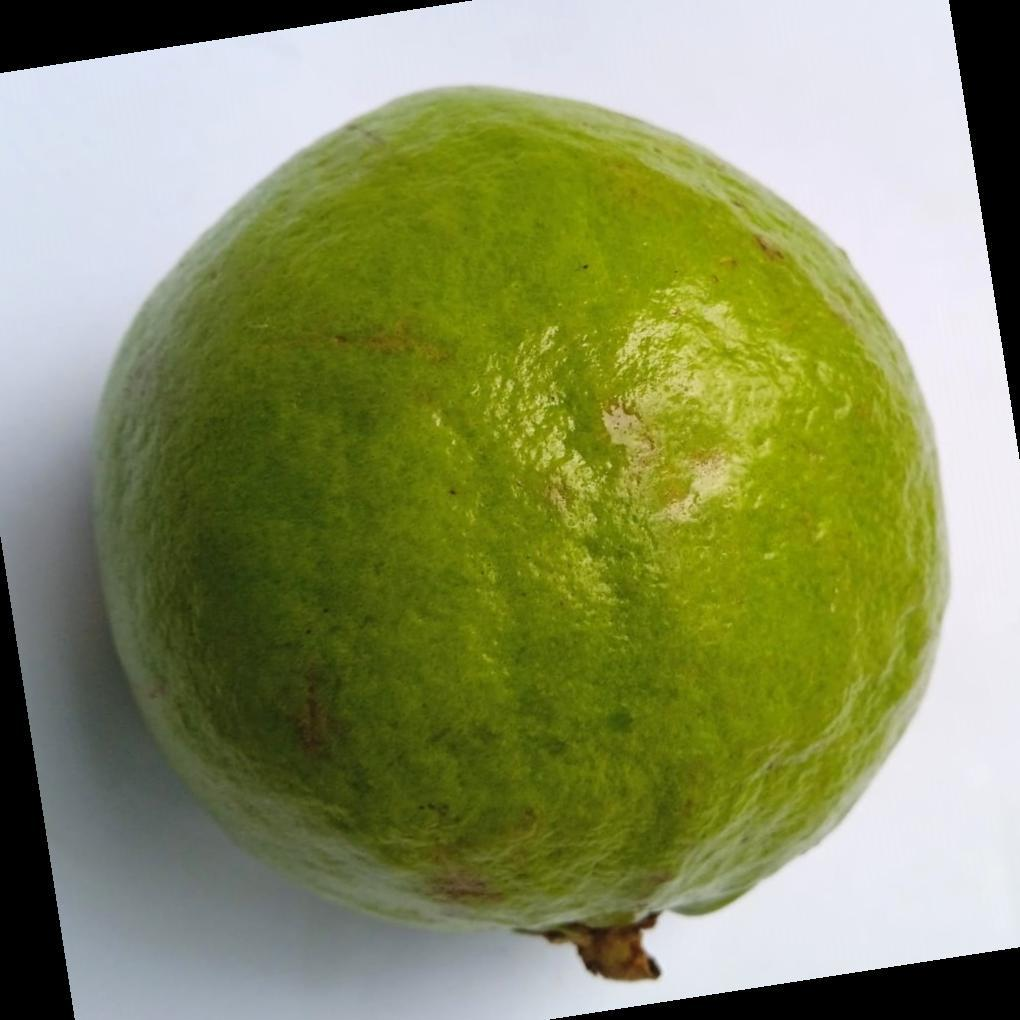FreshGuava: (90, 85, 954, 981)
